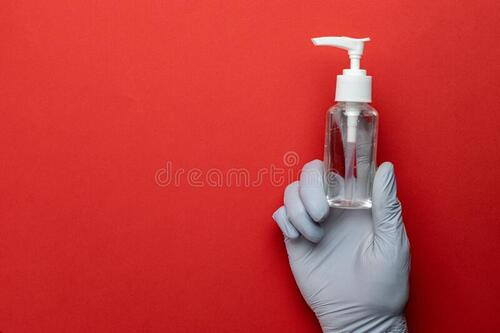sanitizer: (308, 35, 378, 208)
